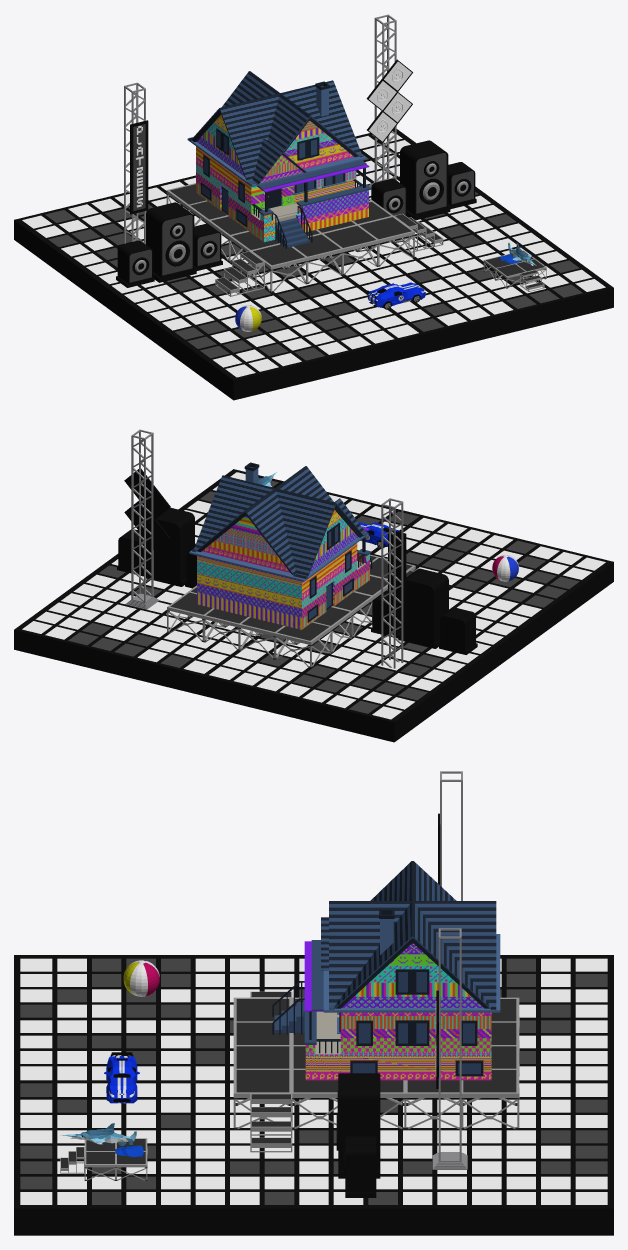
3 renders of one model, top to bottom at view 1: azimuth 30°, elevation 25°; view 2: azimuth 150°, elevation 25°; view 3: azimuth 270°, elevation 25°, orthographic. The views are drawn at different scales.
Visible parts, largest first — view 1: Cube.008, Cube.676, VEHICLES_RACING_CAR, OBJRANDOM_BEACHBALL; view 2: Cube.008, Cube.676, OBJRANDOM_BEACHBALL, VEHICLES_RACING_CAR; view 3: Cube.008, Cube.676, VEHICLES_RACING_CAR, OBJRANDOM_BEACHBALL, ANIMAL_PEZ_ESPADA.
Boxes of the visible parts, x1,y1,x2,y2 form: Cube.008: (14, 14, 613, 400); Cube.676: (187, 71, 371, 248); VEHICLES_RACING_CAR: (367, 282, 425, 309); OBJRANDOM_BEACHBALL: (235, 305, 261, 331); Cube.008: (14, 429, 613, 742); Cube.676: (189, 462, 372, 629); OBJRANDOM_BEACHBALL: (492, 554, 518, 581); VEHICLES_RACING_CAR: (358, 521, 400, 548); Cube.008: (14, 771, 613, 1235); Cube.676: (272, 861, 500, 1080); VEHICLES_RACING_CAR: (104, 1052, 139, 1103); OBJRANDOM_BEACHBALL: (123, 960, 159, 996); ANIMAL_PEZ_ESPADA: (60, 1123, 143, 1157).
Bounding box in the file's own units: 4000 × 1975 × 4000.
42 materials, 5 textured.
